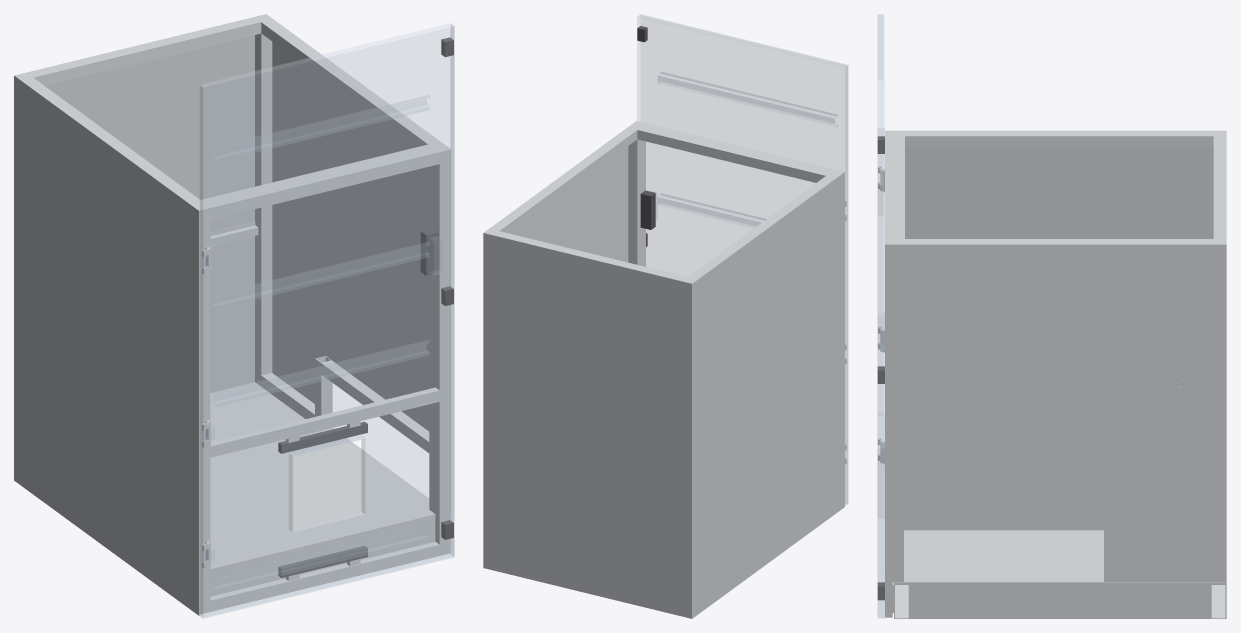
Rendered from modul_A.glb.
The picture shows the model from 3 angles, left to right: view 1: azimuth 30°, elevation 25°; view 2: azimuth 150°, elevation 25°; view 3: azimuth 270°, elevation 25°; orthographic projection. The views are drawn at different scales.
Visible parts, largest first — view 1: A_ONYUZ__on_seffaf__SERVIS_KAPAGI, A_GOVDE__sac, A_MODULER__paslanmaz, A_GOVDE__paslanmaz, KAIDE_A__sac, KAIDE_A__paslanmaz, A_GOVDE__plastik, A_ONYUZ__plastik, A_ONYUZ__paslanmaz; view 2: A_GOVDE__sac, A_ONYUZ__on_seffaf__SERVIS_KAPAGI, A_MODULER__paslanmaz, A_GOVDE__paslanmaz, A_GOVDE__plastik; view 3: A_MODULER__paslanmaz, A_GOVDE__sac, KAIDE_A__paslanmaz, KAIDE_A__sac, A_ONYUZ__on_seffaf__SERVIS_KAPAGI, A_GOVDE__paslanmaz.
Part boxes in pixels (x1,y1,x2,y2): A_ONYUZ__on_seffaf__SERVIS_KAPAGI: (200, 23, 454, 618); A_GOVDE__sac: (14, 14, 450, 615); A_MODULER__paslanmaz: (261, 42, 450, 513); A_GOVDE__paslanmaz: (34, 23, 450, 614); KAIDE_A__sac: (210, 382, 435, 569); KAIDE_A__paslanmaz: (210, 515, 435, 596); A_GOVDE__plastik: (278, 228, 438, 577); A_ONYUZ__plastik: (441, 37, 453, 539); A_ONYUZ__paslanmaz: (202, 246, 210, 568); A_GOVDE__sac: (483, 121, 844, 618); A_ONYUZ__on_seffaf__SERVIS_KAPAGI: (637, 14, 848, 505); A_MODULER__paslanmaz: (509, 146, 628, 262); A_GOVDE__paslanmaz: (500, 130, 824, 266); A_GOVDE__plastik: (640, 190, 655, 229); A_MODULER__paslanmaz: (885, 245, 1226, 581); A_GOVDE__sac: (885, 130, 1226, 618); KAIDE_A__paslanmaz: (894, 582, 1226, 618); KAIDE_A__sac: (892, 530, 1226, 582); A_ONYUZ__on_seffaf__SERVIS_KAPAGI: (877, 14, 884, 618); A_GOVDE__paslanmaz: (885, 137, 1213, 617).
Size of the model in its own units: 0.7 by 1.41 by 0.909.
